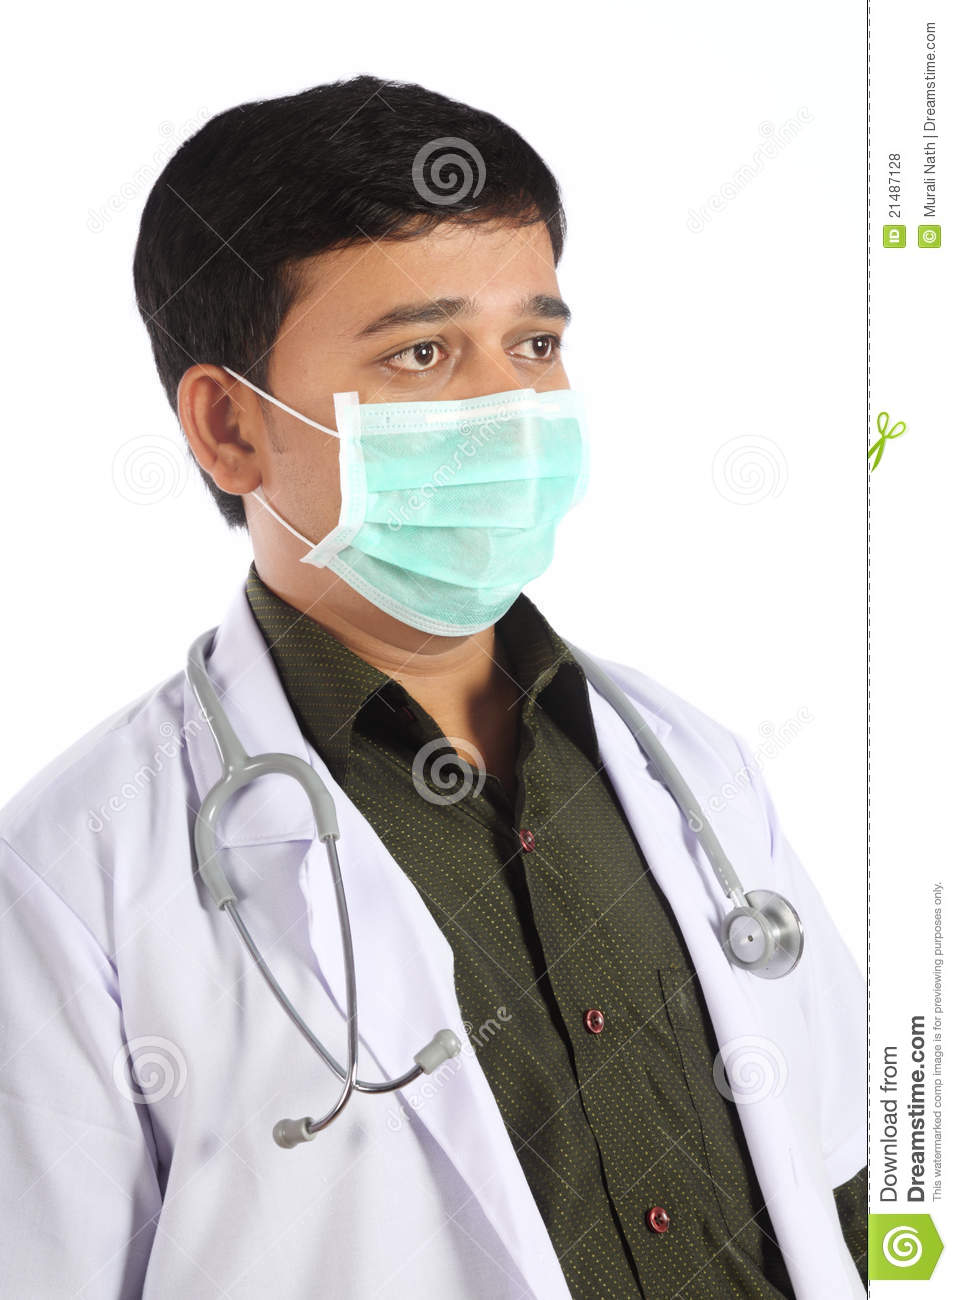mask: (328, 383, 606, 651)
